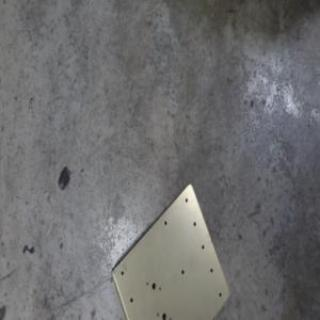MetalSheettrack_idkeyframe: (108, 180, 230, 319)
